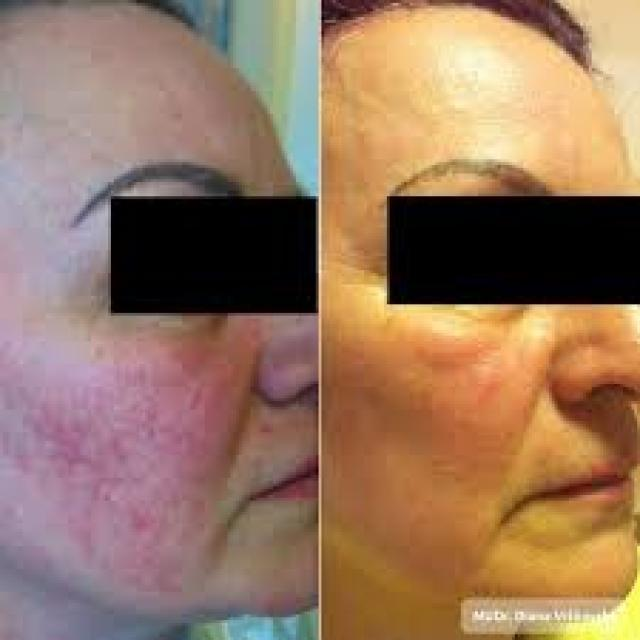Rosacea: (21, 334, 247, 589)
